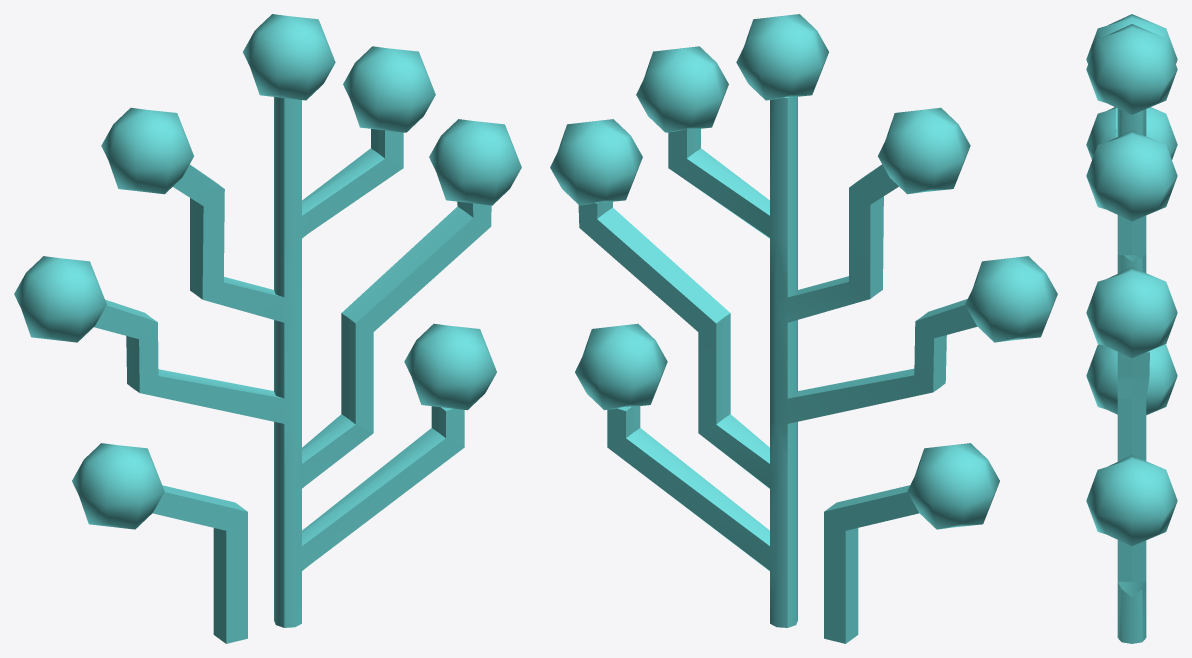
The model's file is sourcetree.fbx.
3 renders of one model, left to right at view 1: azimuth 30°, elevation 25°; view 2: azimuth 150°, elevation 25°; view 3: azimuth 270°, elevation 25°, orthographic.
Parts seen in each view (by area): view 1: sourcetree; view 2: sourcetree; view 3: sourcetree.
Boxes of the visible parts, box(x1,y1,x2,y2) form: sourcetree: box(14, 14, 521, 643); sourcetree: box(550, 14, 1057, 643); sourcetree: box(1086, 14, 1177, 643).
Size of the model in its own units: 6.28 by 7.38 by 1.
